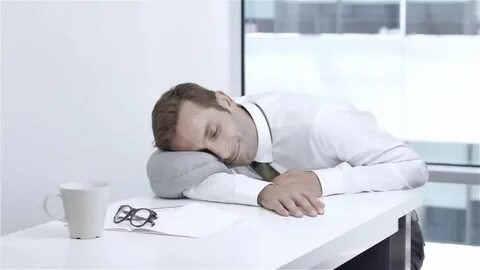sleep: (145, 81, 428, 219)
